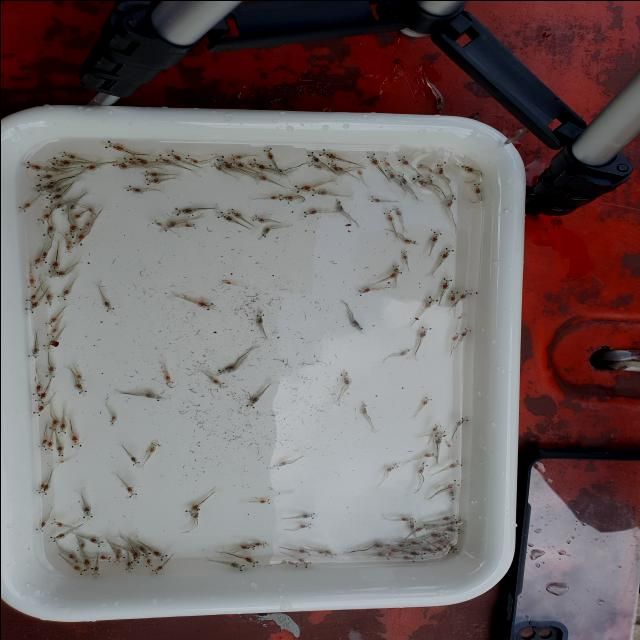babyshrimp: (212, 151, 232, 171), (266, 457, 288, 472), (415, 320, 433, 338), (245, 157, 269, 170), (294, 556, 316, 570), (419, 294, 438, 310), (346, 318, 364, 334), (98, 139, 124, 150), (162, 147, 182, 161), (339, 367, 352, 388), (383, 168, 400, 184), (410, 174, 429, 188), (216, 363, 238, 375), (124, 153, 148, 164), (314, 148, 336, 160), (43, 156, 72, 165), (244, 394, 260, 410), (23, 298, 39, 314), (437, 273, 452, 290), (20, 160, 43, 171), (227, 560, 248, 572), (441, 477, 459, 491), (196, 299, 218, 310), (122, 484, 137, 500), (152, 153, 172, 165), (214, 210, 234, 222), (151, 548, 168, 562), (395, 153, 412, 167), (384, 458, 401, 472), (80, 503, 93, 521), (68, 431, 81, 449), (158, 219, 176, 232), (243, 555, 261, 568), (41, 193, 64, 203), (47, 257, 59, 276), (141, 391, 166, 400), (364, 150, 379, 165), (439, 243, 454, 258), (72, 380, 86, 396), (56, 286, 70, 302), (56, 149, 76, 160), (45, 532, 66, 542), (304, 149, 319, 163), (431, 429, 445, 444), (352, 285, 371, 296), (183, 502, 199, 515), (102, 298, 115, 314), (457, 287, 473, 300), (121, 184, 144, 193), (43, 315, 58, 328), (65, 223, 78, 238), (261, 144, 274, 159), (428, 227, 441, 242), (454, 414, 469, 427), (415, 458, 428, 473), (27, 345, 39, 361), (43, 269, 67, 277), (79, 162, 98, 172), (446, 457, 465, 467), (26, 255, 40, 268), (72, 233, 85, 247), (87, 536, 105, 546), (38, 249, 48, 267), (297, 208, 317, 217), (293, 183, 311, 193), (307, 159, 325, 169), (321, 547, 337, 558), (225, 207, 241, 218), (31, 404, 44, 417), (24, 291, 37, 304), (42, 224, 55, 237), (443, 194, 456, 207), (445, 288, 458, 301), (111, 547, 125, 559), (259, 225, 271, 239), (395, 169, 407, 183), (389, 266, 403, 278), (252, 311, 264, 325), (459, 324, 471, 338), (444, 526, 464, 534), (56, 421, 66, 437), (45, 364, 55, 380), (210, 378, 226, 388), (183, 154, 199, 164), (71, 562, 84, 574), (33, 391, 46, 403), (43, 337, 56, 349), (46, 325, 58, 338), (81, 557, 92, 571), (68, 552, 82, 563), (129, 454, 140, 468), (162, 373, 173, 387), (36, 212, 50, 223), (97, 553, 114, 562), (130, 550, 139, 567), (120, 156, 137, 165), (293, 547, 312, 555), (397, 554, 416, 562), (44, 201, 63, 209), (35, 173, 54, 181), (252, 539, 271, 547), (34, 481, 44, 496), (146, 442, 161, 452), (17, 201, 32, 211), (60, 204, 75, 214), (333, 197, 343, 212), (139, 170, 160, 177), (111, 162, 132, 169), (31, 383, 43, 395), (44, 291, 53, 307), (249, 214, 265, 223), (382, 209, 394, 221), (401, 237, 419, 245), (189, 502, 200, 515), (48, 417, 59, 430), (470, 181, 481, 194), (391, 204, 402, 217), (35, 520, 45, 534), (141, 177, 161, 184), (374, 551, 391, 559), (391, 261, 399, 278), (49, 518, 64, 527), (398, 346, 413, 355), (358, 399, 367, 414), (379, 157, 391, 168), (434, 162, 446, 173), (420, 393, 432, 404), (209, 161, 222, 171), (397, 247, 407, 260), (458, 164, 474, 172), (255, 172, 269, 181), (284, 559, 298, 568), (367, 195, 382, 203), (430, 421, 442, 431), (439, 514, 456, 521), (311, 188, 328, 195), (414, 523, 427, 532), (150, 564, 163, 573), (124, 560, 133, 573), (55, 443, 64, 456), (44, 440, 53, 453), (446, 487, 455, 500), (315, 548, 331, 555), (91, 565, 99, 579), (27, 276, 35, 290), (228, 158, 242, 166), (269, 192, 283, 200), (40, 483, 50, 494), (74, 370, 84, 381), (428, 531, 446, 537), (37, 438, 46, 450), (296, 521, 311, 528), (229, 153, 242, 161), (449, 518, 466, 524), (301, 512, 315, 519), (76, 542, 84, 554), (240, 543, 256, 549), (150, 219, 163, 226), (181, 222, 196, 228), (258, 497, 270, 504), (113, 553, 120, 565), (281, 195, 295, 201), (451, 331, 460, 340), (86, 206, 96, 214), (109, 414, 116, 425), (455, 311, 466, 318), (407, 519, 416, 527), (145, 557, 152, 567), (64, 242, 71, 252), (54, 459, 64, 465), (72, 212, 82, 218), (400, 516, 413, 520)
